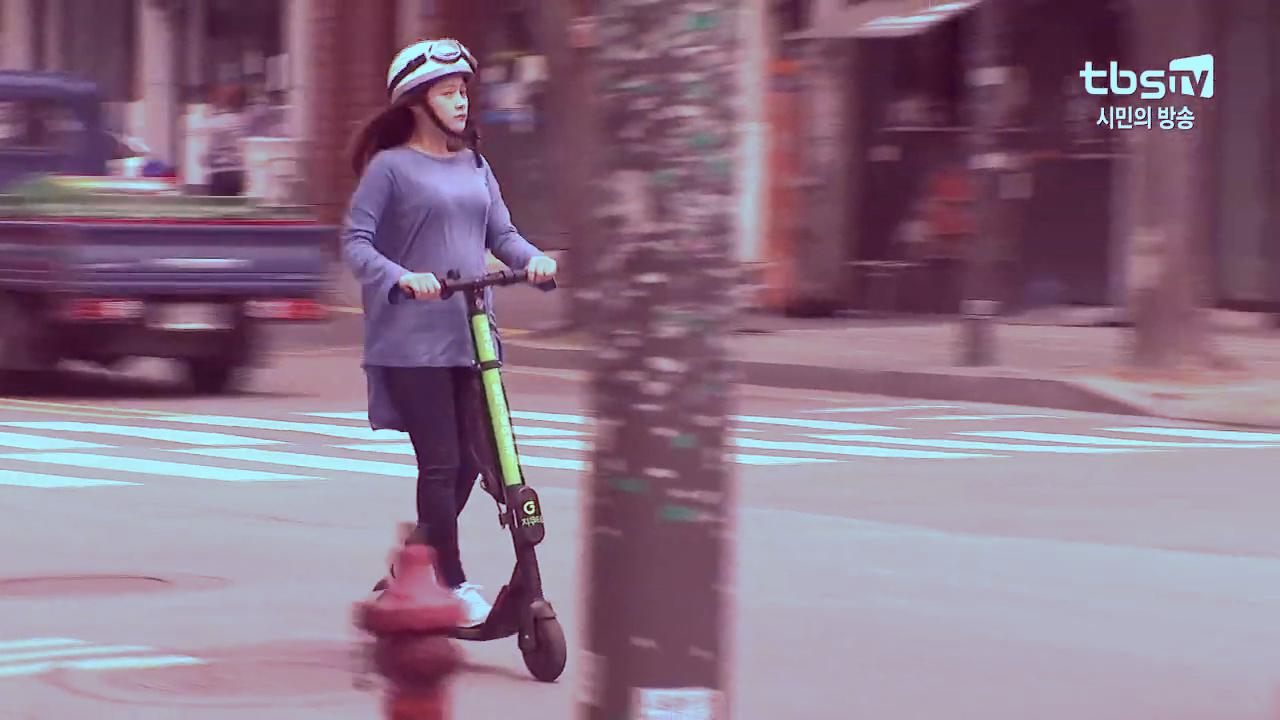helmet: (340, 33, 574, 686)
